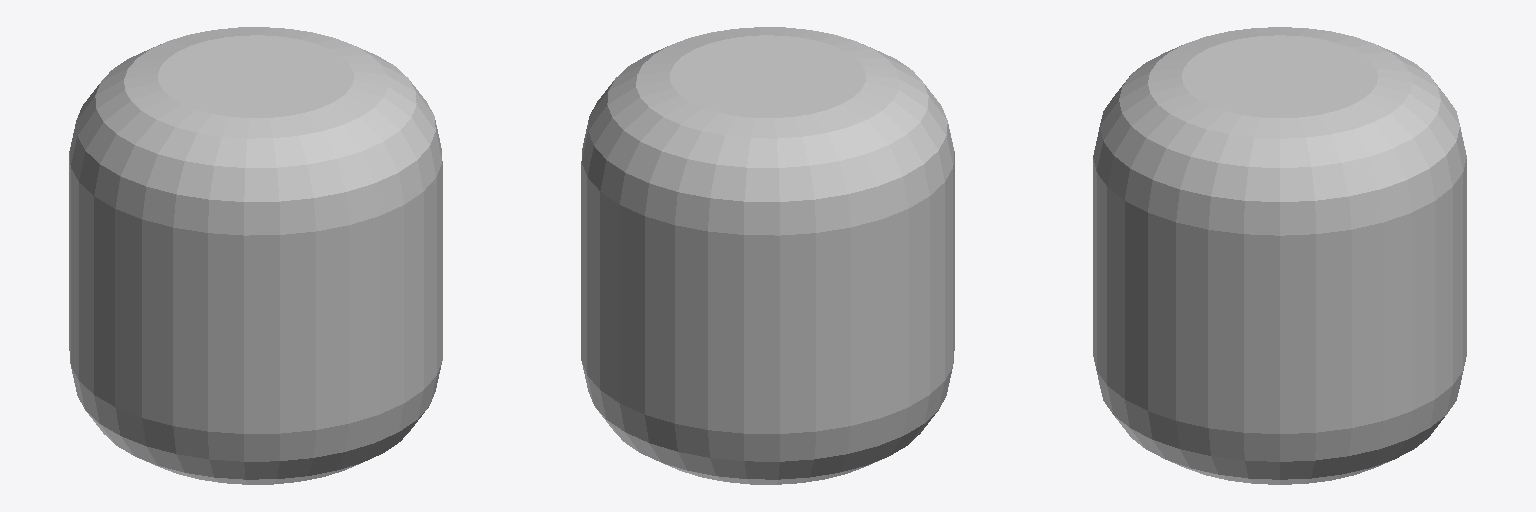
The model's file is head.obj.
3 renders of one model, left to right at view 1: azimuth 30°, elevation 25°; view 2: azimuth 150°, elevation 25°; view 3: azimuth 270°, elevation 25°, orthographic.
Visible parts, largest first — view 1: Head_Head.001_Head_Head_Circle.001; view 2: Head_Head.001_Head_Head_Circle.001; view 3: Head_Head.001_Head_Head_Circle.001.
Boxes of the visible parts, box(x1,y1,x2,y2) form: Head_Head.001_Head_Head_Circle.001: box(69, 27, 442, 484); Head_Head.001_Head_Head_Circle.001: box(581, 27, 954, 484); Head_Head.001_Head_Head_Circle.001: box(1093, 27, 1466, 484).
Bounding box in the file's own units: 1.2 × 1.27 × 1.2.